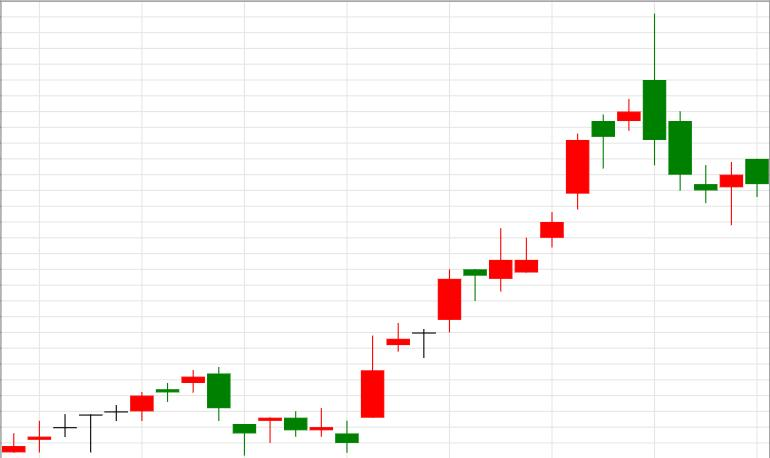bearish_engulfing_fall: (438, 13, 666, 332)
